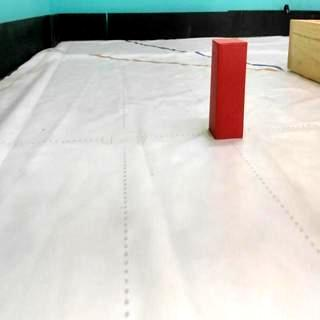redbox: (210, 38, 248, 141)
